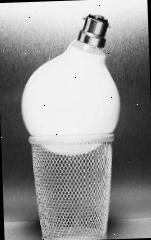lightbulb: (18, 12, 122, 140)
